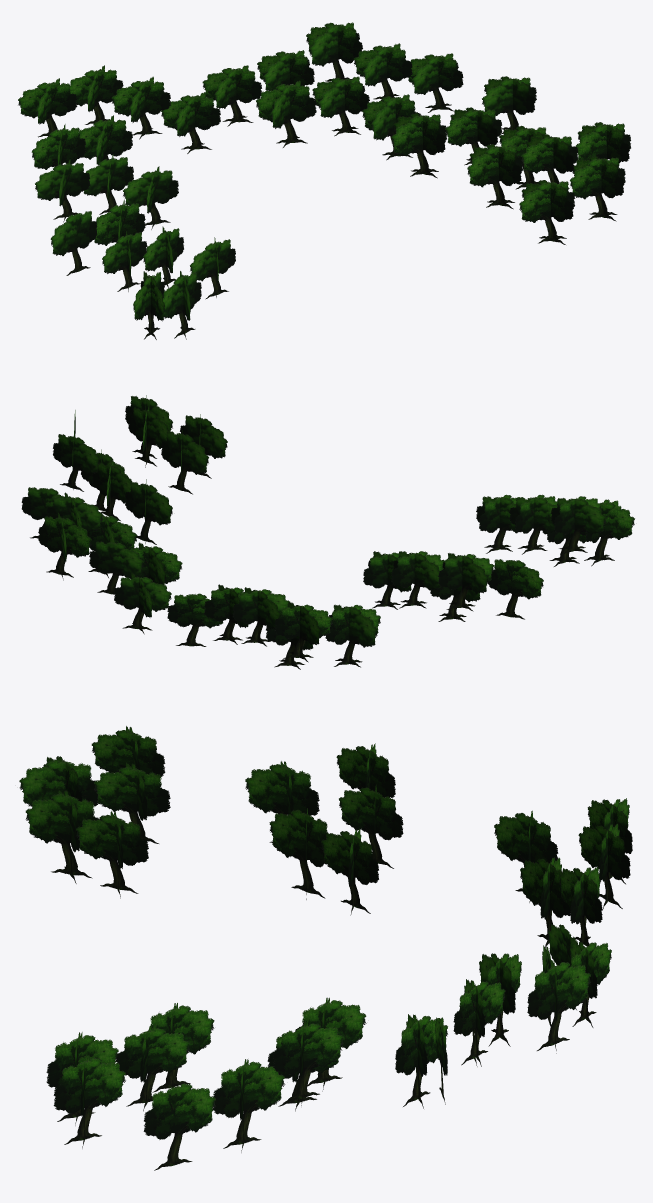
3 views of the same model, one above another, from view 1: azimuth 30°, elevation 25°; view 2: azimuth 150°, elevation 25°; view 3: azimuth 270°, elevation 25° (orthographic). The views are drawn at different scales.
Visible parts, largest first — view 1: ki009_16_001; view 2: ki009_16_001; view 3: ki009_16_001.
Boxes of the visible parts, x1=… form: ki009_16_001: x1=18, y1=22, x2=630, y2=339; ki009_16_001: x1=21, y1=395, x2=634, y2=669; ki009_16_001: x1=19, y1=726, x2=632, y2=1170.
Size of the model in its own units: 149 by 25.72 by 107.
Materials: 1 (1 with a texture image).
